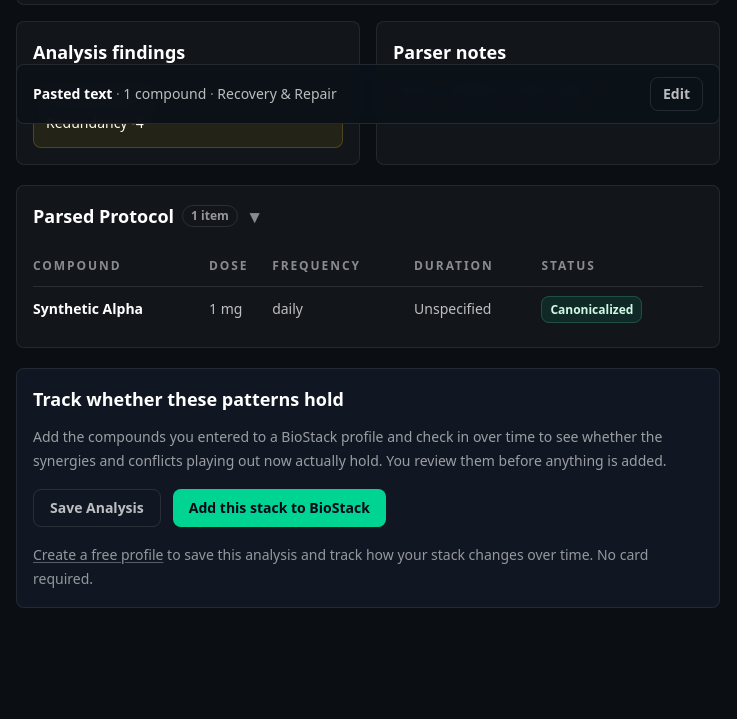
AnalyzerExperience › storage failure recovery › preserves real storage after a failed analysis write and replaces the draft only on successful retry
(page scrolled)
Click the button "Add this stack to BioStack".
click(279, 508)  # box top-left (173, 489), bottom-right (386, 527)
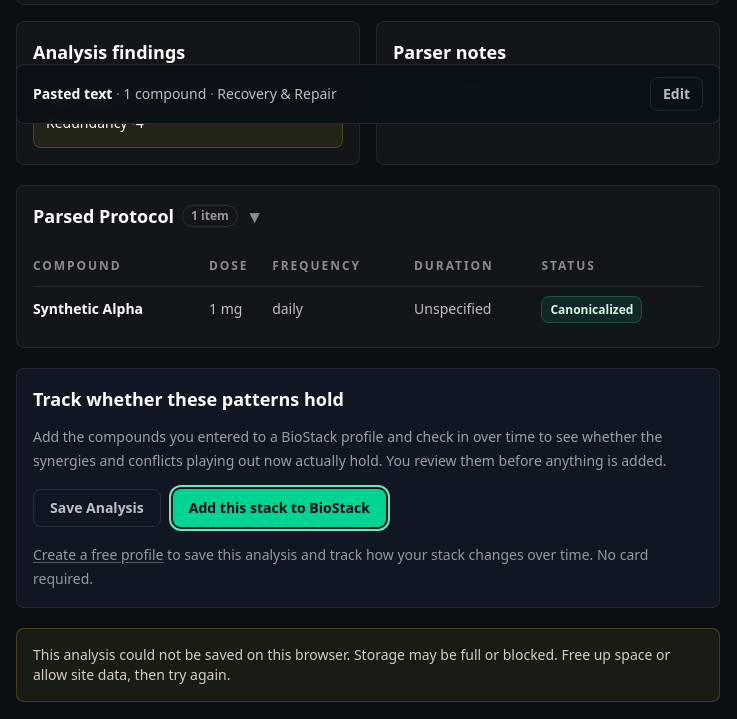
Check: the message is shown, box top-left (16, 628), bottom-right (720, 702)
Click the button "Add this stack to BioStack".
click(279, 508)  # box top-left (173, 489), bottom-right (386, 527)
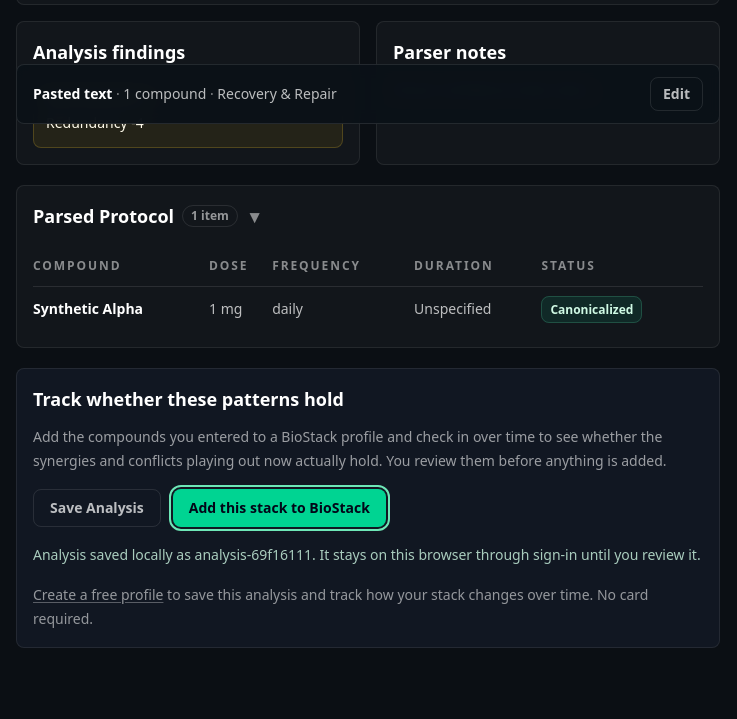
Check: the message is gone
